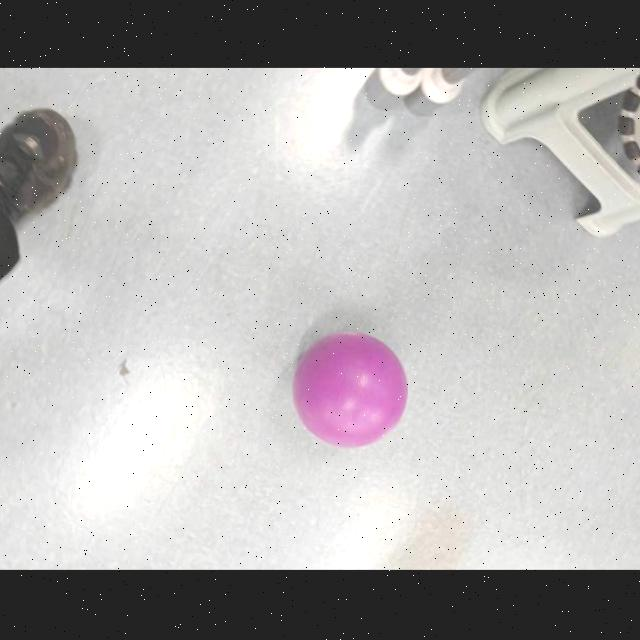P: (291, 328, 411, 449)
